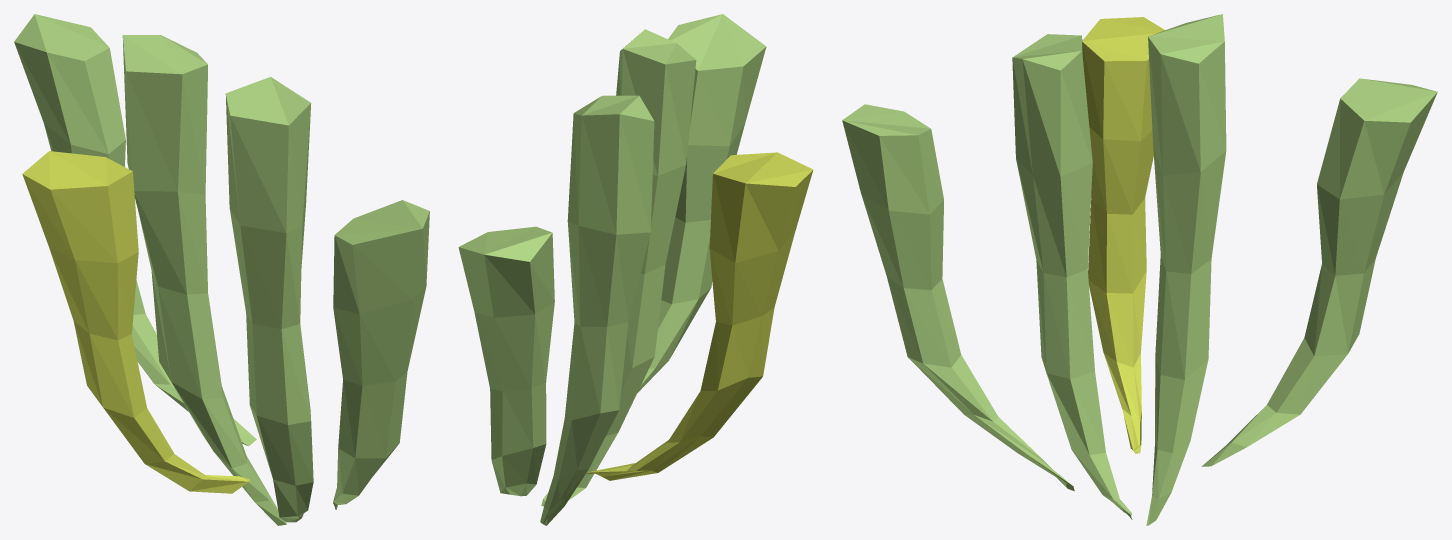
Rendered from more_rasa_2.glb.
The picture shows the model from 3 angles, left to right: view 1: azimuth 30°, elevation 25°; view 2: azimuth 150°, elevation 25°; view 3: azimuth 270°, elevation 25°; orthographic projection. The views are drawn at different scales.
Visible parts, largest first — view 1: more_rasa_2; view 2: more_rasa_2; view 3: more_rasa_2.
Part boxes in pixels (x1,y1,x2,y2): more_rasa_2: (14,14,429,525); more_rasa_2: (458,14,813,525); more_rasa_2: (842,14,1437,525).
Bounding box in the file's own units: 0.7099 × 1.2 × 1.41.
Materials: 1 (1 with a texture image).
